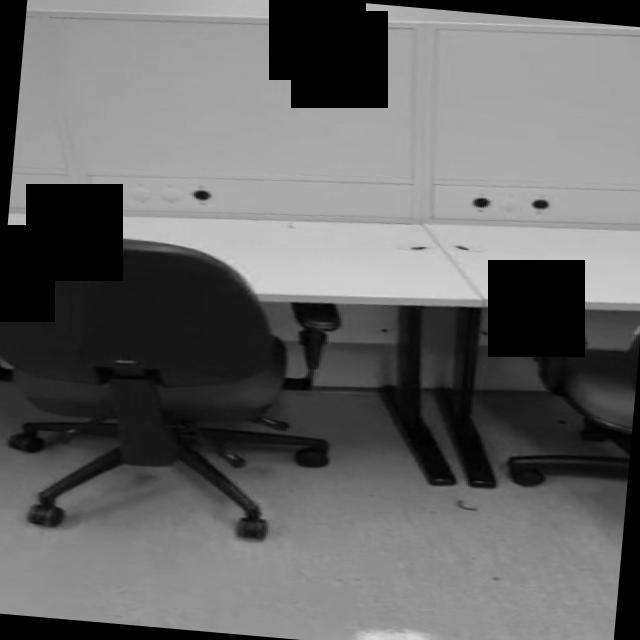cadeira-azul: (0, 226, 346, 551)
